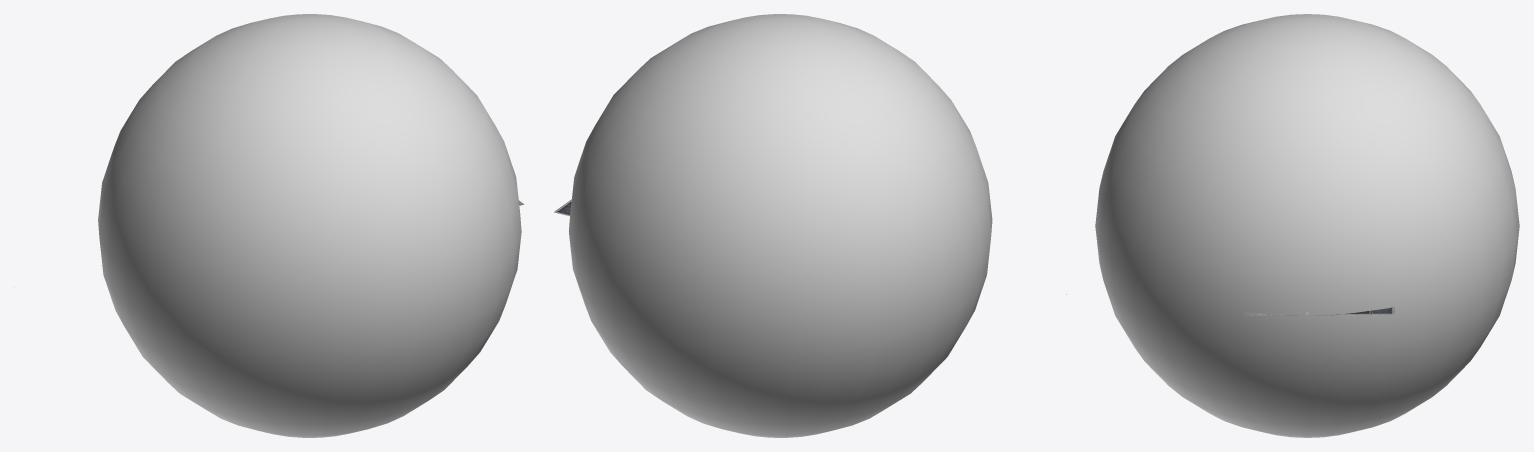
File: citylow.glb
The picture shows the model from 3 angles, left to right: view 1: azimuth 30°, elevation 25°; view 2: azimuth 150°, elevation 25°; view 3: azimuth 270°, elevation 25°; orthographic projection.
Visible parts, largest first — view 1: big; view 2: big; view 3: big.
Part boxes in pixels (x1=…): big: x1=98, y1=14, x2=521, y2=437; big: x1=569, y1=14, x2=992, y2=437; big: x1=1095, y1=14, x2=1519, y2=437.
Size of the model in its own units: 194 by 150 by 150.
21 materials, 16 textured.
